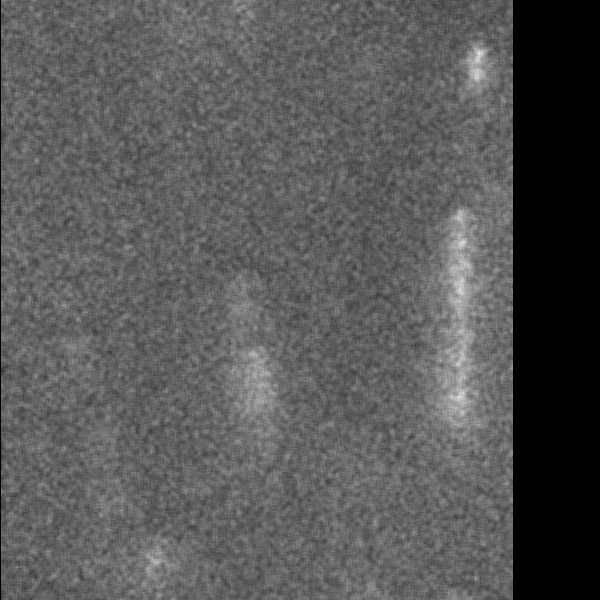spark: (432, 138, 489, 486), (219, 340, 257, 437), (465, 38, 491, 146)
